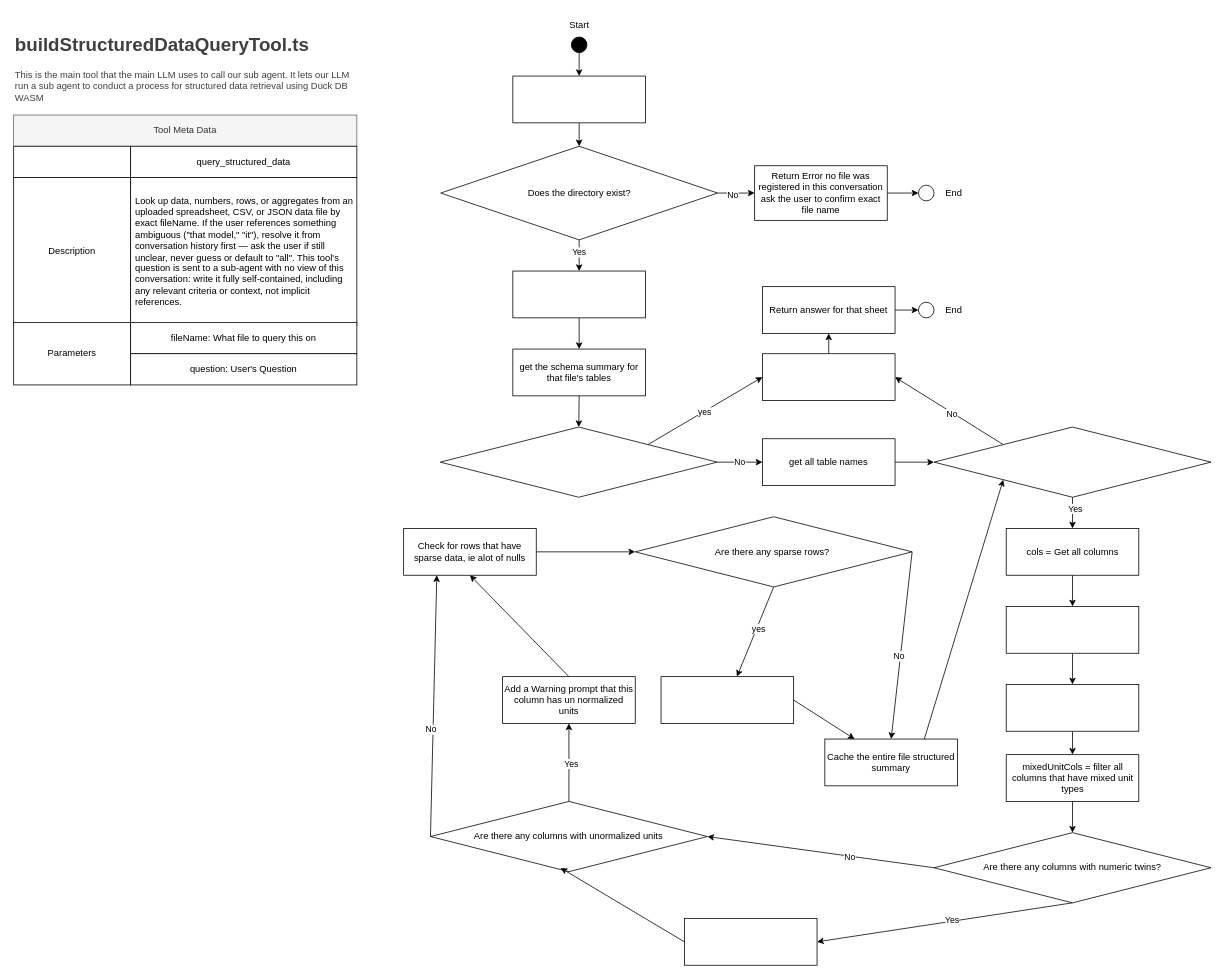
This 1225x979 diagram has some shape labels left out. The shapes that lost their labels are listed below. From the top down, each one's centre as x and y in pixels, then its label:
At point 578,99: "Get the full file directory using file name".
At point 72,161: "Name".
At point 578,294: "create/get a db connection".
At point 828,377: "run structured data subagent".
At point 578,461: "Is there a schema retrieved?".
At point 1072,461: "Are there any tables left unprocessed".
At point 1072,629: "colDescriptions = Build column names + types".
At point 727,699: "Add sparse row warning to system prompt".
At point 1072,707: "textColsWithNumericTwin = filter all the columns that have a numeric twin".
At point 750,941: "Add a Warning prompt that this column is numeric".
